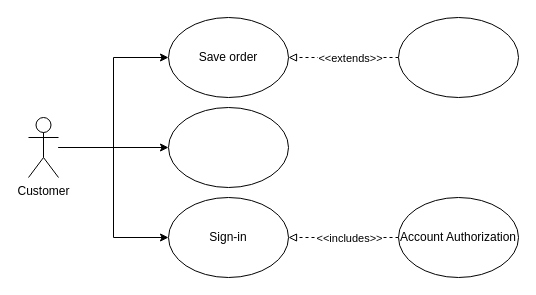
Some shapes in this 536 by 295 pixel diagram are drawn without their labels. The centre of each missing label's shape, as x and y in pixels:
"Cancel" goes at (458,57).
"View account details" goes at (228,147).
